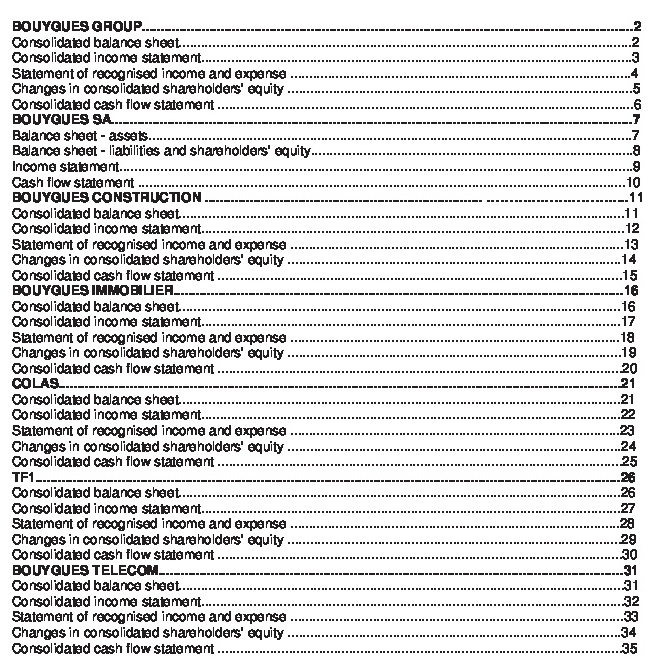table: (0, 0, 657, 669)
